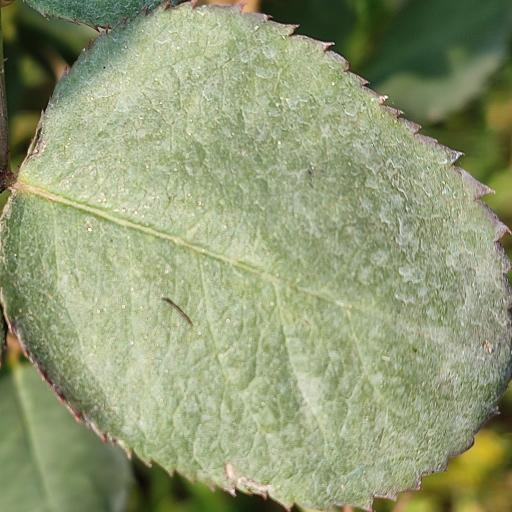healthy_leaf: (0, 4, 512, 509)
